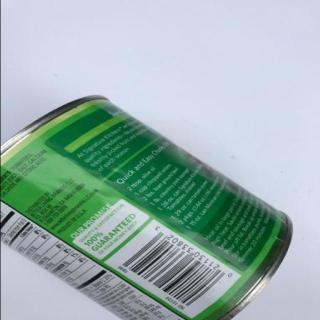Anorganik: (0, 95, 296, 319)
